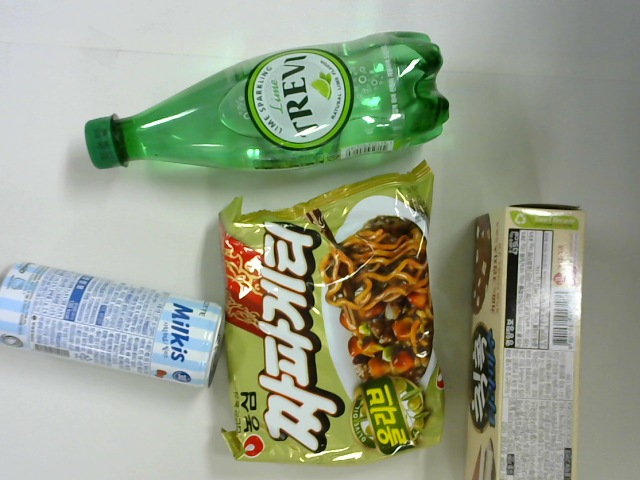Chicchok_Tiramisu: (461, 203, 583, 480)
Milkies_250ml: (1, 262, 227, 389)
Olive_Chapaghetti: (218, 161, 448, 463)
Treviraim_500ml: (85, 30, 450, 169)
